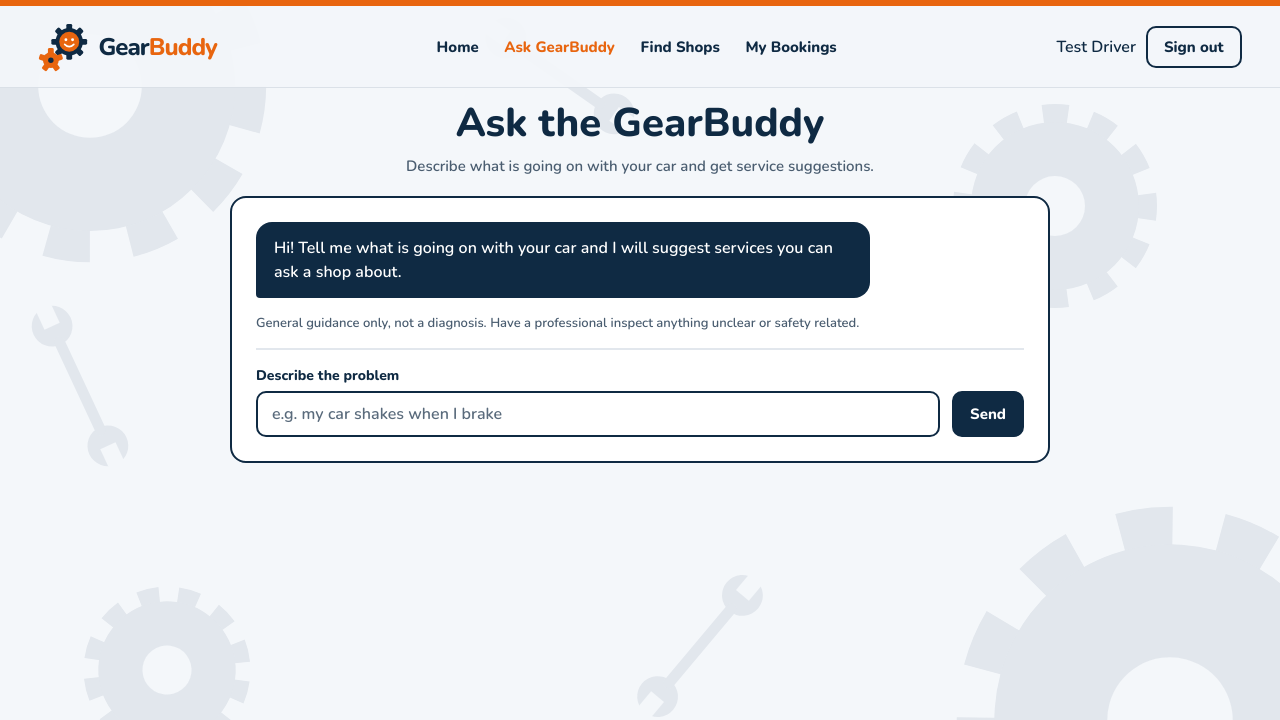
GearBuddy screens › sends a vehicle problem to the AI endpoint and shows returned service suggestions
In the field labelled "Describe the problem": (598, 414) [256,391,940,437], type "My car shakes when I brake"
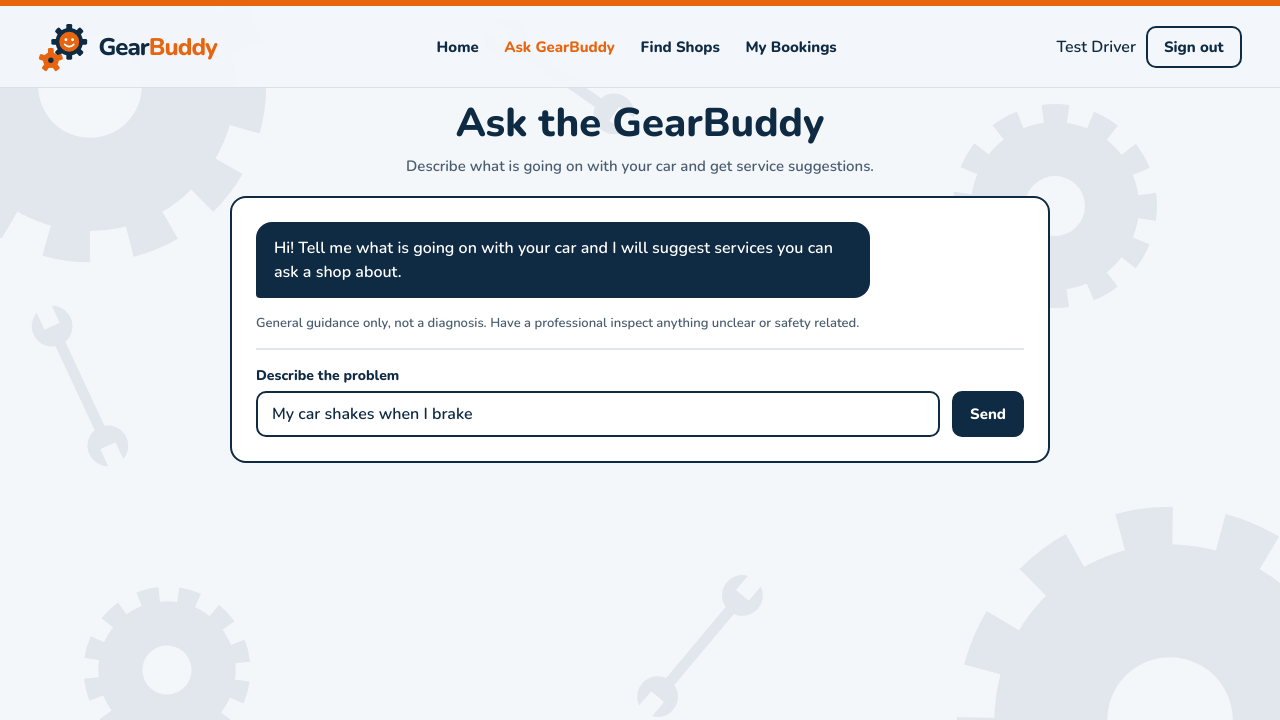
Submit the form named "Send a vehicle problem", box [256,348,1024,437]
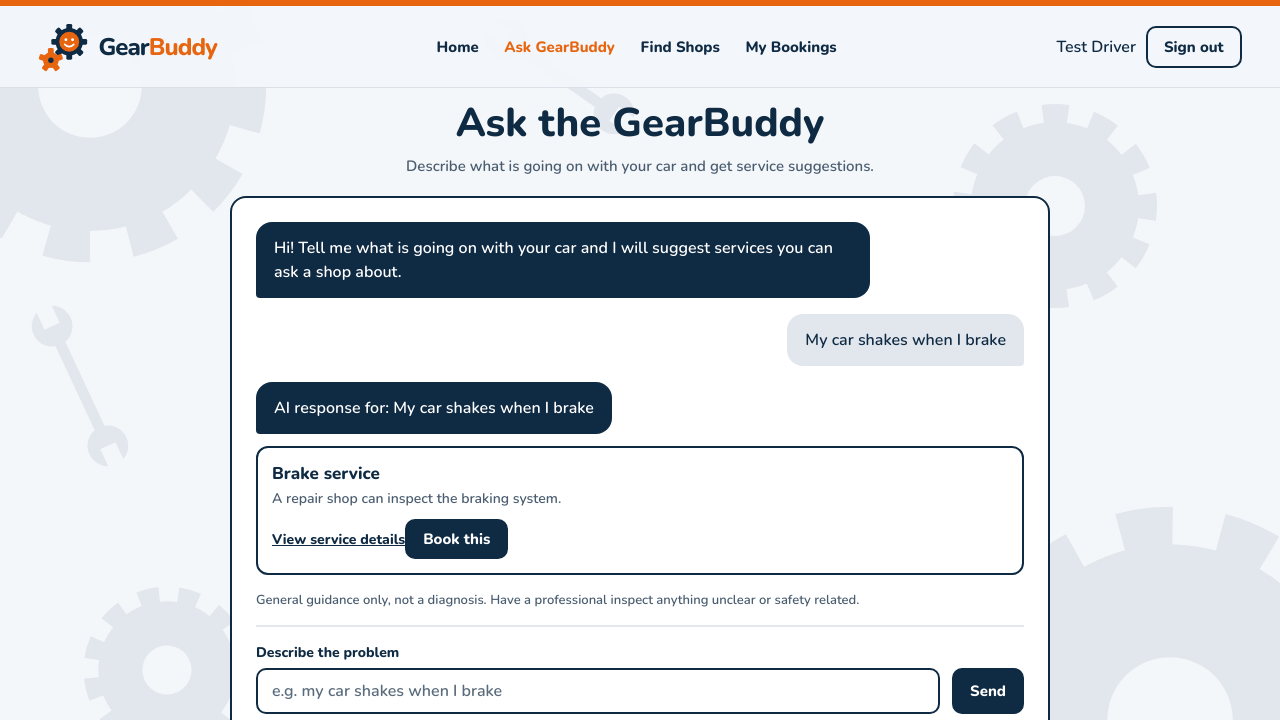
expect the text "My car shakes when I brake" is shown: met, box [787,314,1024,366]
expect the heading "Brake service" is shown: met, box [272,462,380,485]
